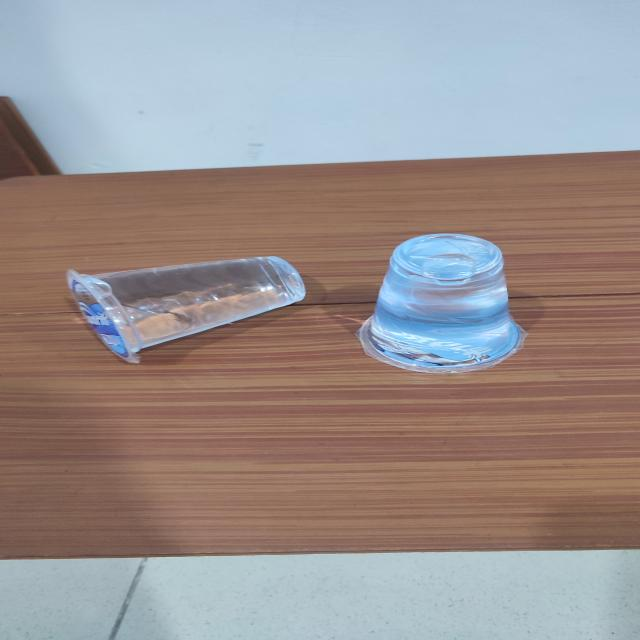air gelas: (55, 250, 319, 364), (340, 228, 530, 374)
